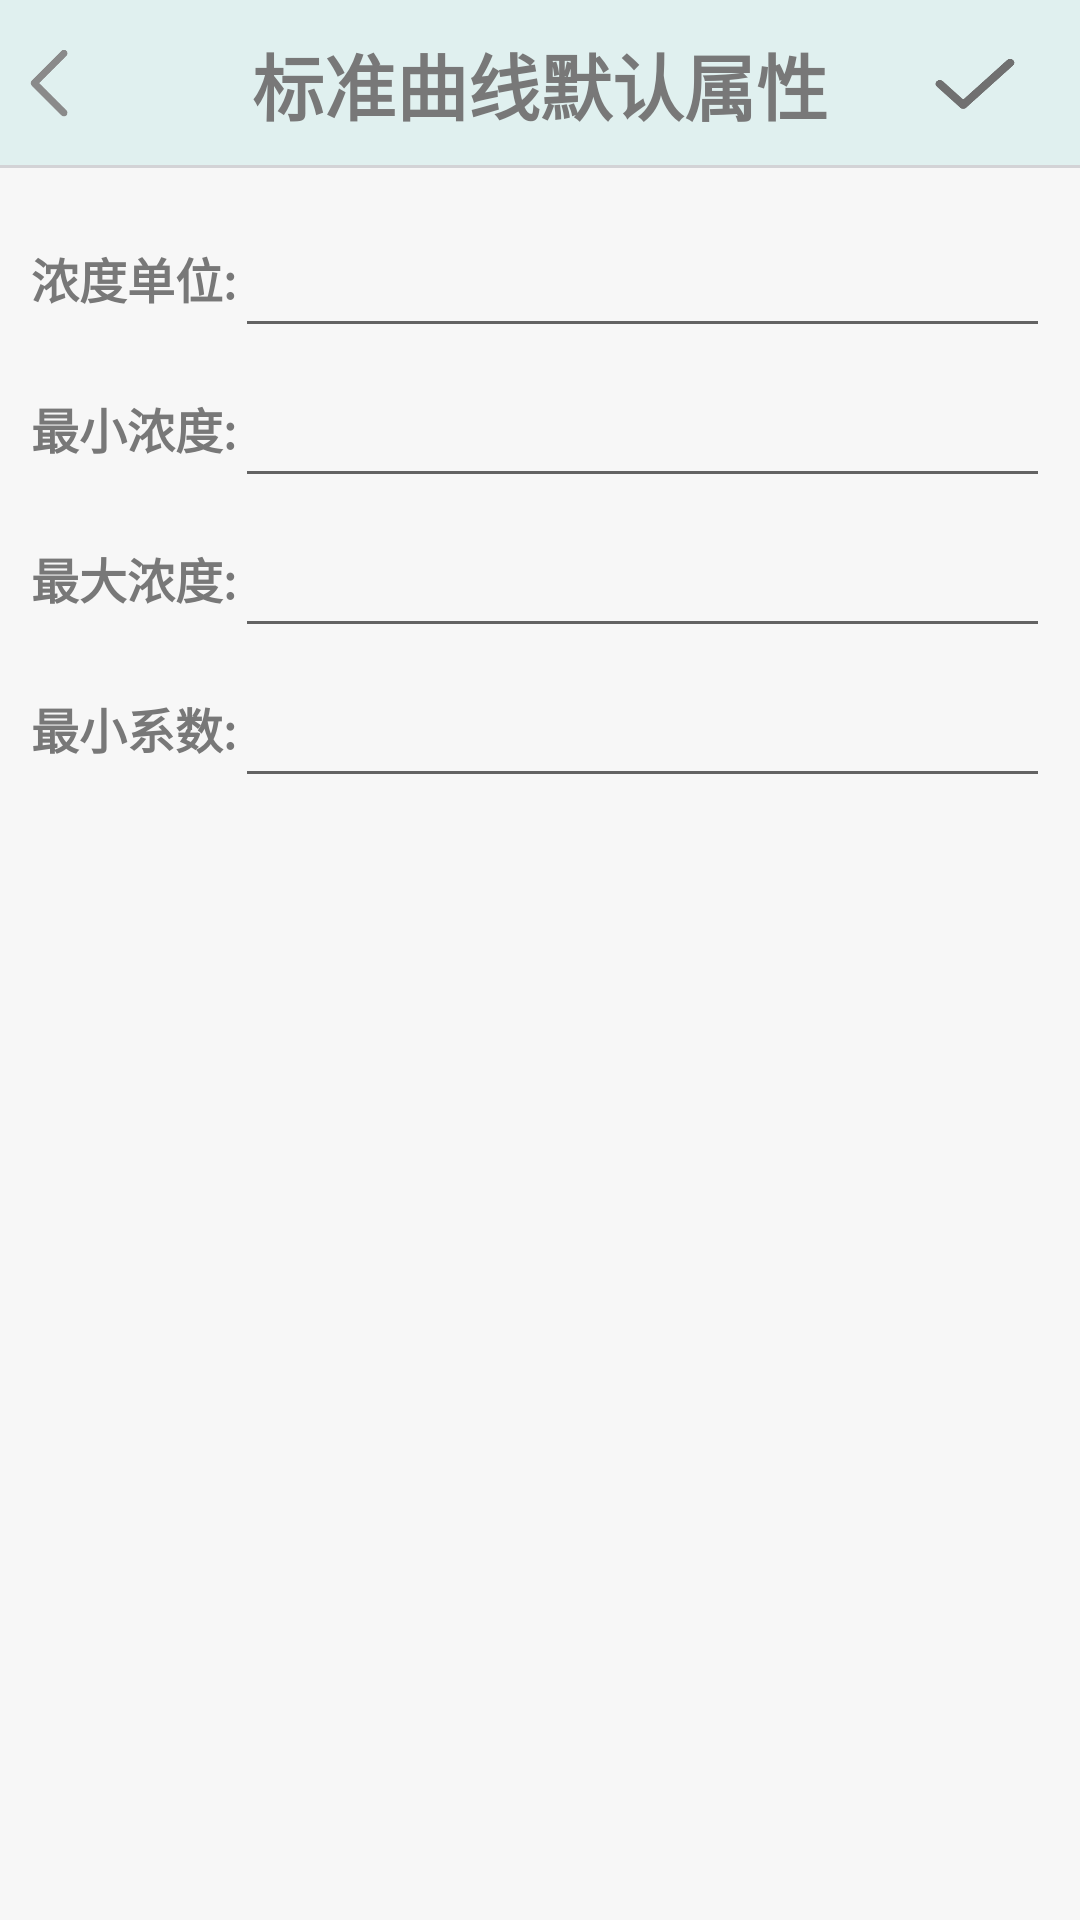

Icon bounding boxes for this 1080 × 1920 phone screenshot, format [x1=x1, y1=y1, x2=x2, y2=y2]:
back: [x1=31, y1=50, x2=68, y2=116]
save: [x1=935, y1=59, x2=1015, y2=109]
